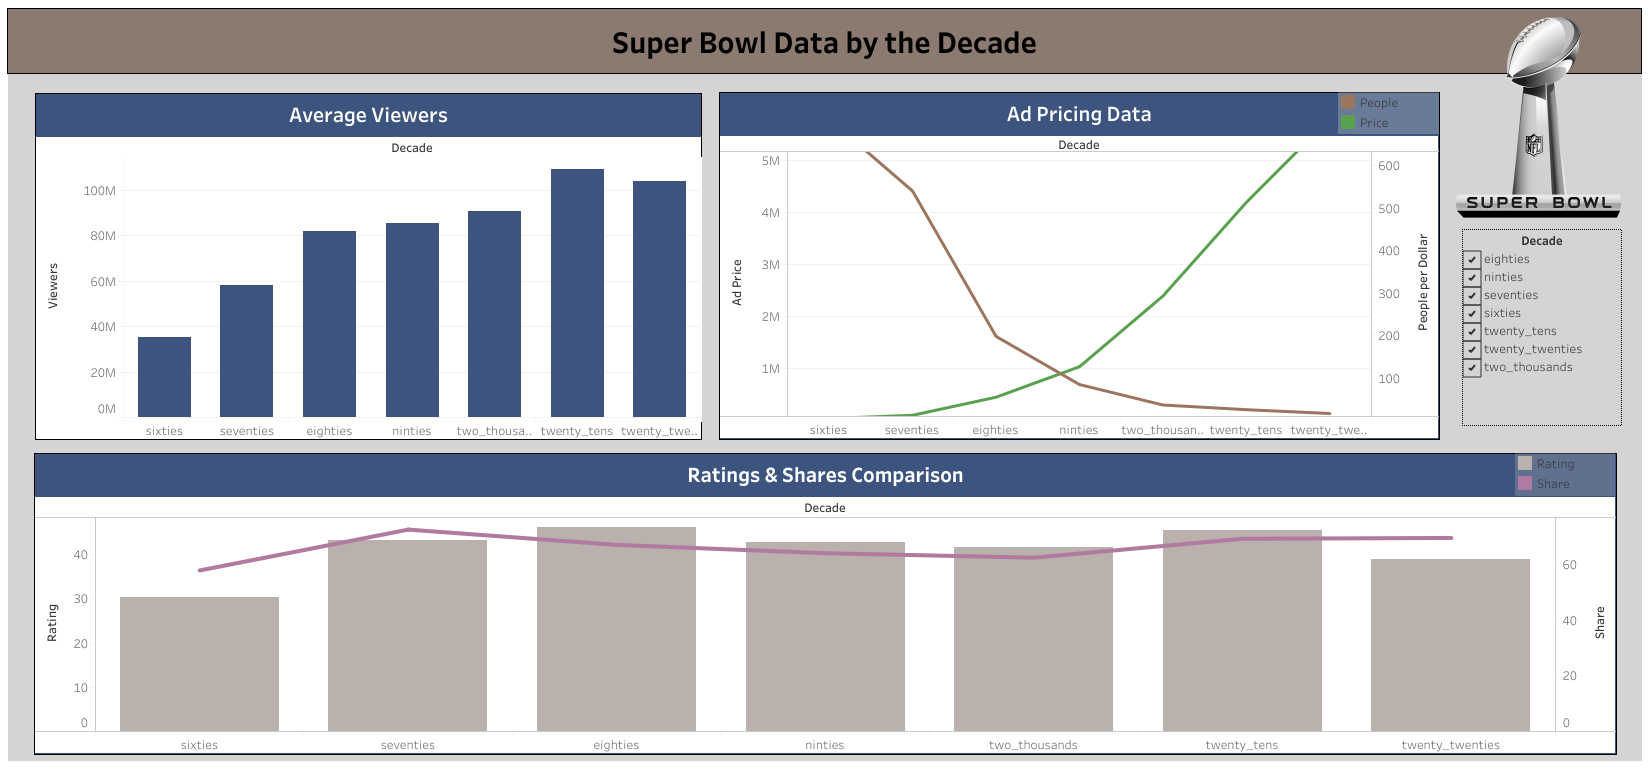

This screenshot's page, from the dashboard's own definition file:
{"tool":"tableau","page":{"name":"Dashboard 1","canvas":[1000,1000],"units":"permille","ordinal":0},"visuals":[{"type":"text","box":[4.1,10.6,991.2,85.7]},{"type":"image","param":"Image/trophy.png","box":[868.5,22.3,128.5,261.4]},{"type":"worksheet","title":"Ads","mark":"Line","rows":["AVG_AD","Num_Price"],"cols":["Decade"],"box":[435.8,119.6,437,452.5]},{"type":"legend","title":"Ads","param":"[federated.1qdt68s1f0aom712goq2c0qqxyge].[:Measure Names]","box":[810.9,119.6,61.2,55.1]},{"type":"worksheet","title":"Average Viewers","mark":"Bar","rows":["AVG_Viewers"],"cols":["Decade"],"box":[21.2,120.8,404.2,451.4]},{"type":"filter","title":"Average Viewers","param":"[federated.1qdt68s1f0aom712goq2c0qqxyge].[none:Decade:nk]","box":[886.1,297.8,97,255.6]},{"type":"worksheet","title":"TV Ratings and Shares","mark":"Line","rows":["AVG_Rating","AVG_Share"],"cols":["Decade"],"box":[20.6,588.5,959.4,392.7]},{"type":"legend","title":"TV Ratings and Shares","param":"[federated.1qdt68s1f0aom712goq2c0qqxyge].[:Measure Names]","box":[918.2,589.7,60.6,55.1]}]}

Visuals, with their boxes on the dashboard's canvas, which has no fixed pixel size, in thousandths of its width and height (x1, y1, x2, y2). These are canvas units, not pixel positions in the 1649x768 screenshot, which may show the page scaled, cropped or inside an application window:
text: 4 11 995 96
image: 868 22 997 284
"Ads" worksheet (Line marks): 436 120 873 572
"Ads" legend: 811 120 872 175
"Average Viewers" worksheet (Bar marks): 21 121 425 572
"Average Viewers" filter: 886 298 983 553
"TV Ratings and Shares" worksheet (Line marks): 21 588 980 981
"TV Ratings and Shares" legend: 918 590 979 645
